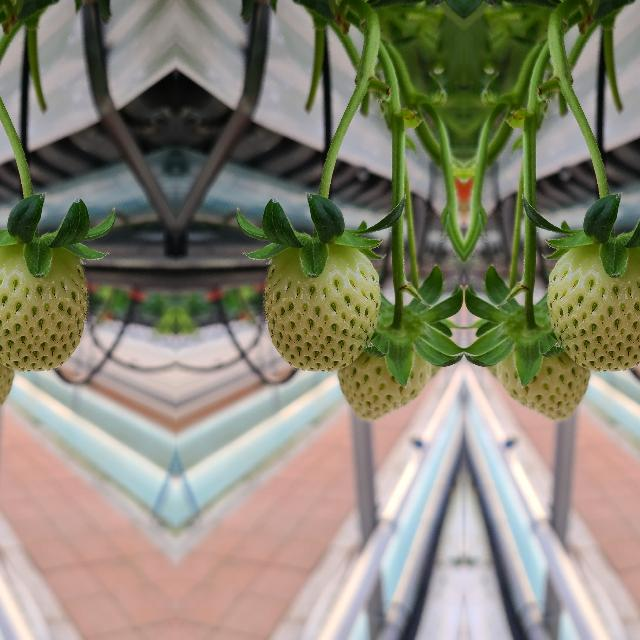Health_25: (263, 246, 379, 372), (547, 246, 640, 371), (0, 246, 87, 371), (334, 319, 434, 423), (492, 319, 592, 423)
